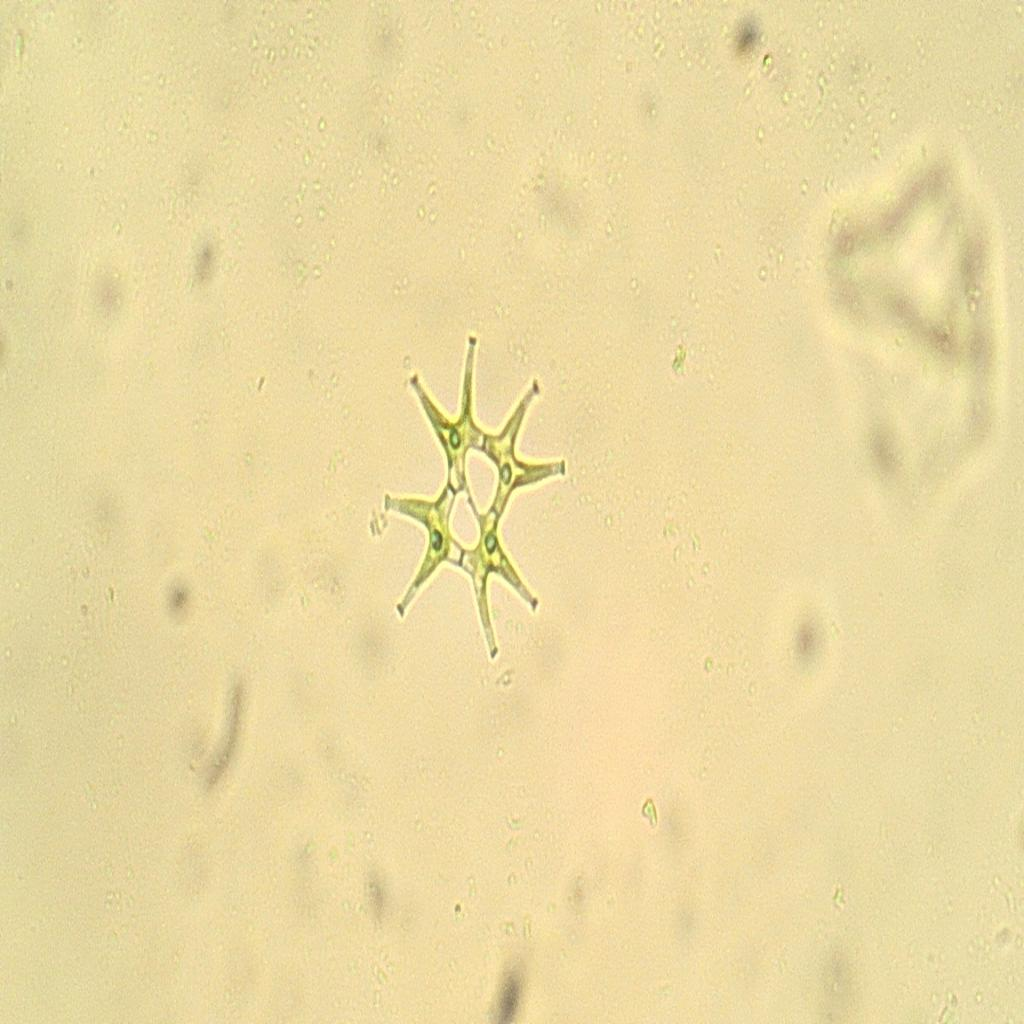Pediastrum_CF: (370, 310, 578, 688)
